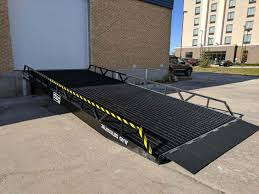Yard Ramp: (20, 63, 259, 176)
